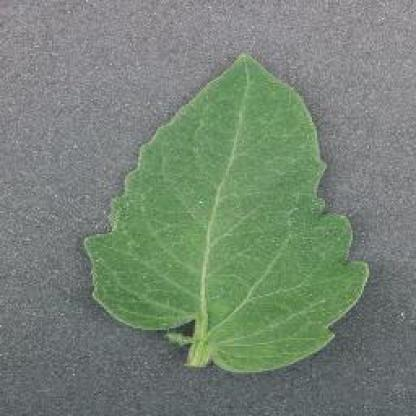bad leaf: (93, 42, 364, 384)
